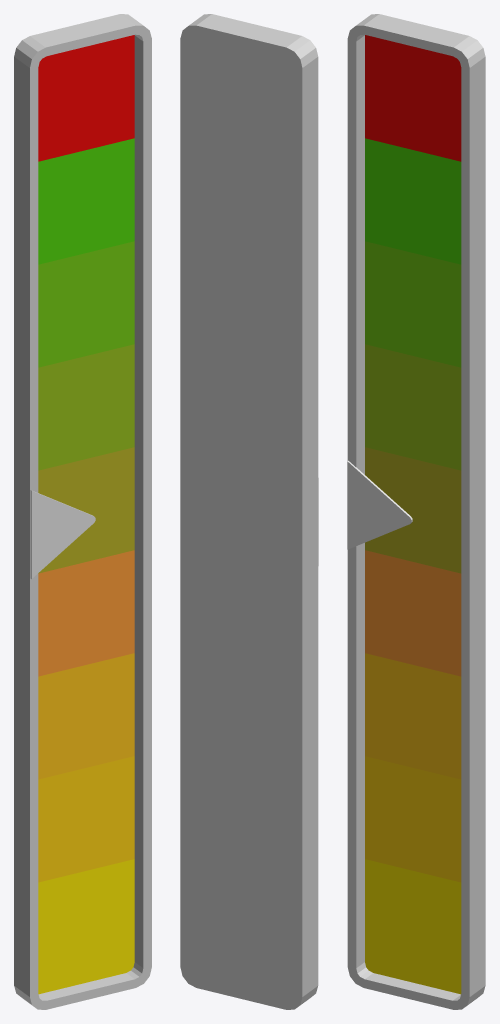
Rendered from meterbar S.fbx.
3 views of the same model, side by side, from view 1: azimuth 30°, elevation 25°; view 2: azimuth 150°, elevation 25°; view 3: azimuth 330°, elevation 25° (orthographic).
Parts seen in each view (by area): view 1: shade, meterbar, marker; view 2: meterbar; view 3: shade, meterbar, marker.
Boxes of the visible parts, x1,y1,x2,y2 form: shade: (38, 35, 134, 994); meterbar: (14, 14, 151, 1009); marker: (30, 490, 95, 578); meterbar: (180, 14, 318, 1009); shade: (365, 35, 461, 994); meterbar: (347, 14, 485, 1009); marker: (347, 460, 412, 549).
Bounding box in the file's own units: 200 × 1507 × 47.67.
